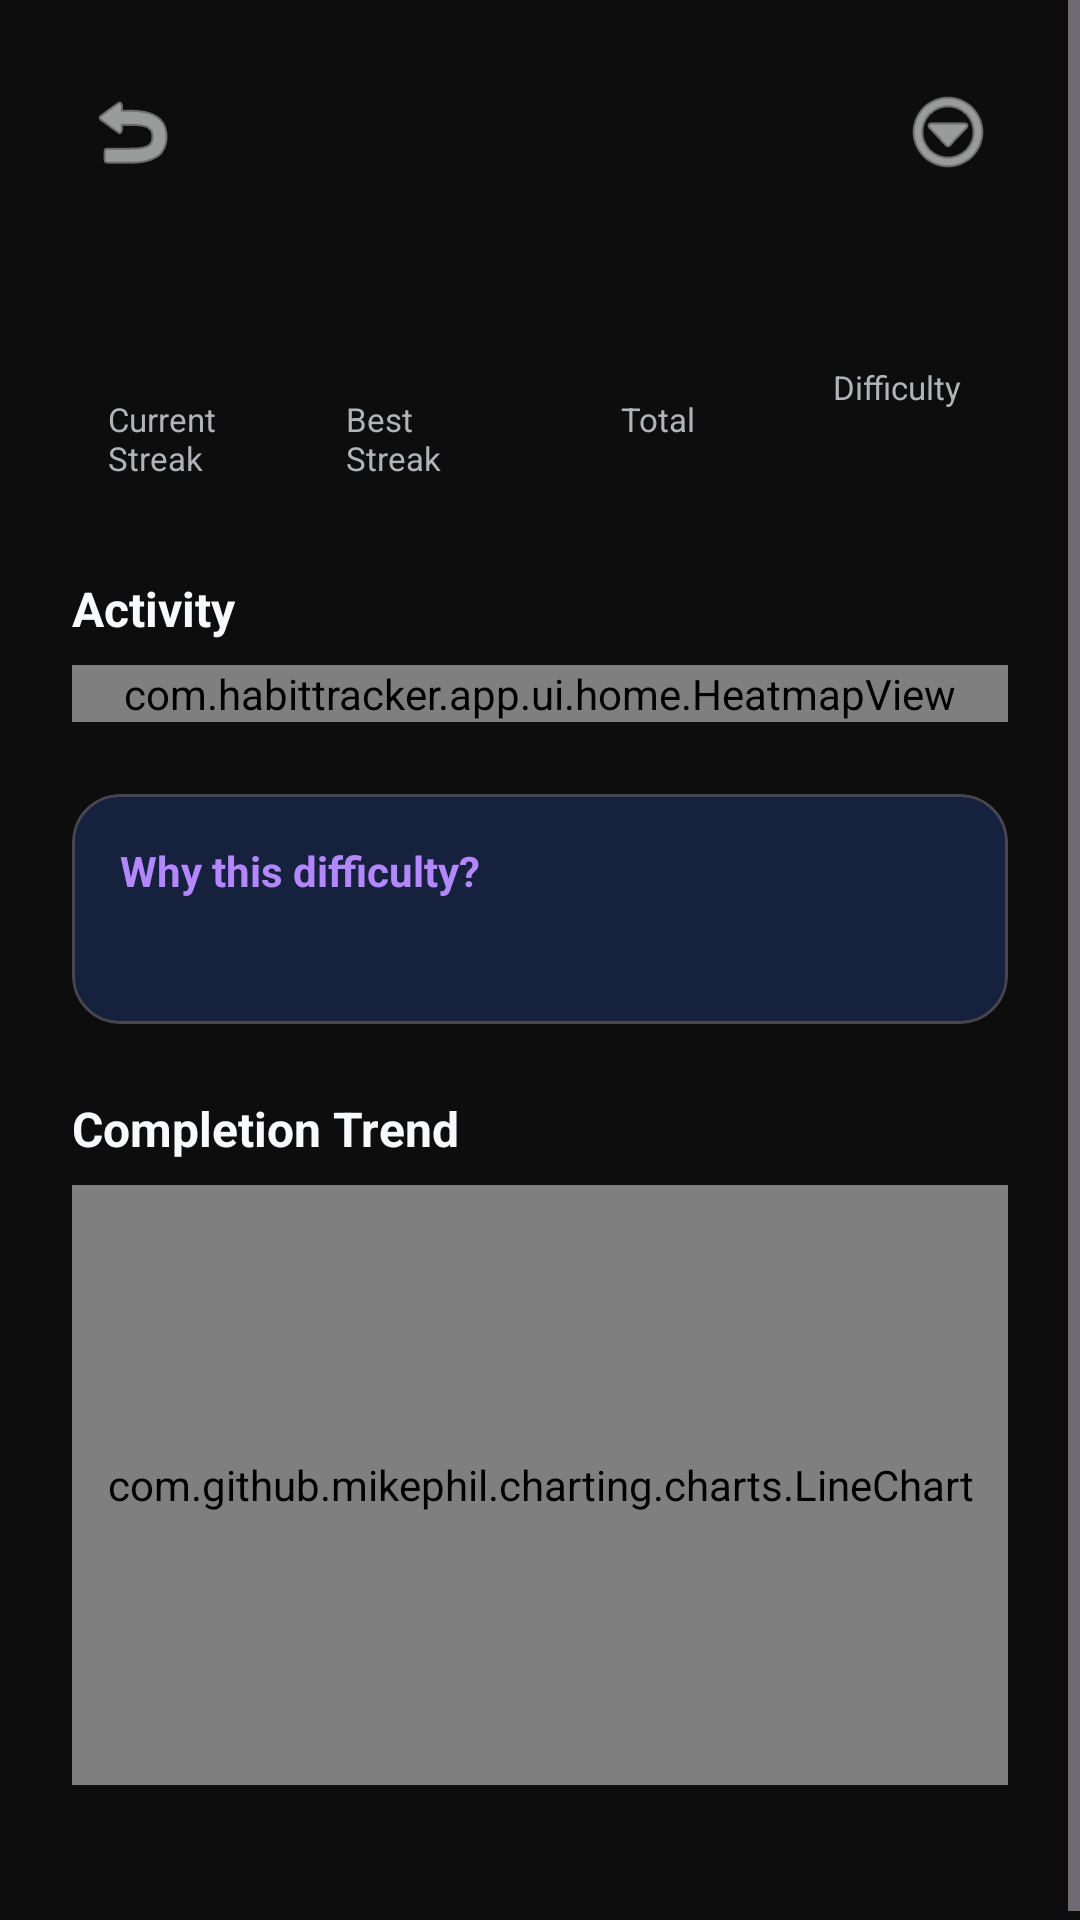

Point at icon controls on the screen. Image size 1080 x 1920, points as point (x, y).
Back: point (133, 132)
More options: point (948, 132)
